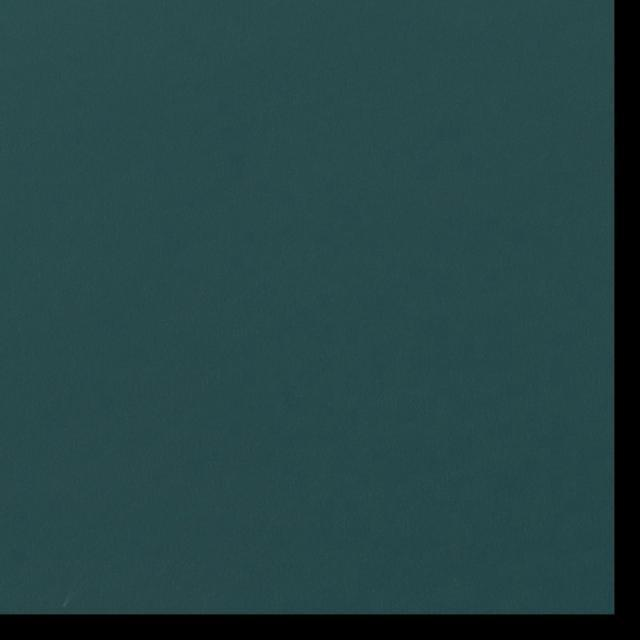ship: (62, 603, 67, 608)
